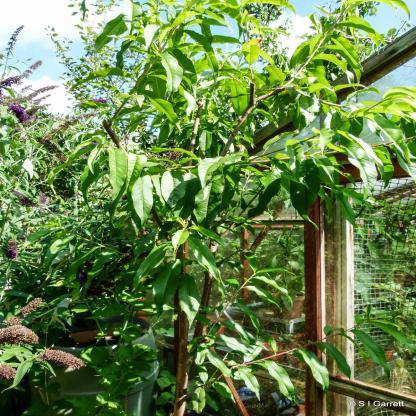Peach leaf: (186, 238, 234, 300), (251, 361, 310, 405), (291, 350, 341, 398), (148, 260, 182, 320), (129, 176, 162, 234), (346, 151, 381, 199), (157, 50, 188, 96), (110, 150, 129, 206)
